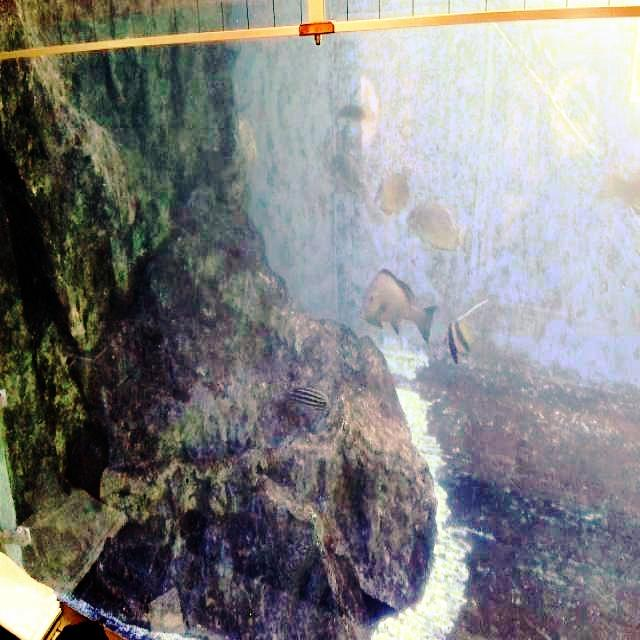Plectorhinchus lessonii: (284, 372, 338, 432)
angelfish: (443, 292, 493, 374)
gold snapper: (401, 190, 472, 262), (373, 162, 416, 220)
other black fish: (356, 262, 440, 354)
